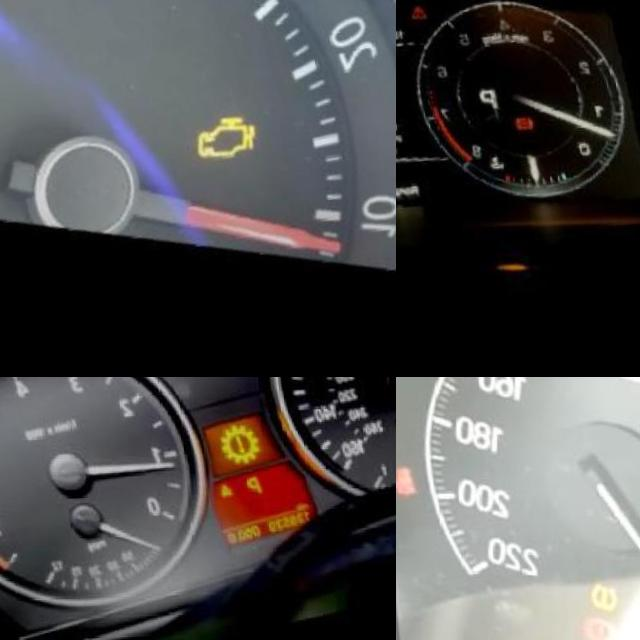Engine cooling system: (477, 158, 496, 179)
